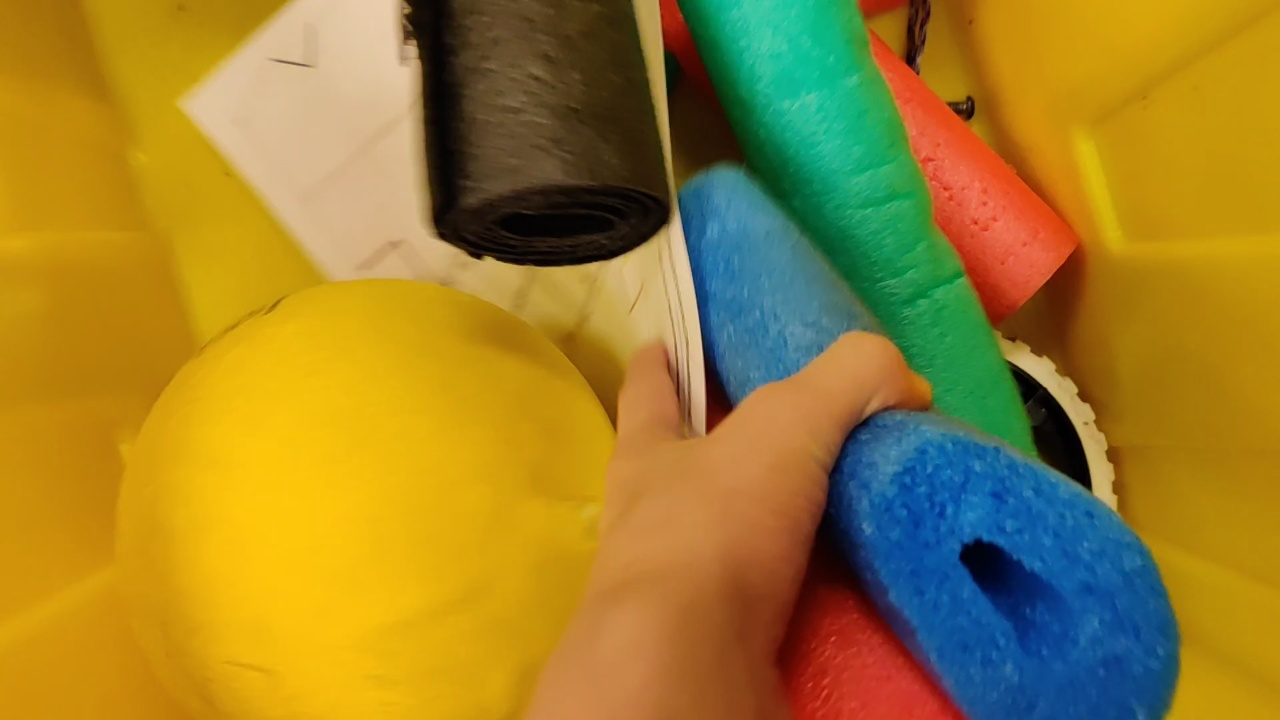Ball: (107, 278, 627, 720)
